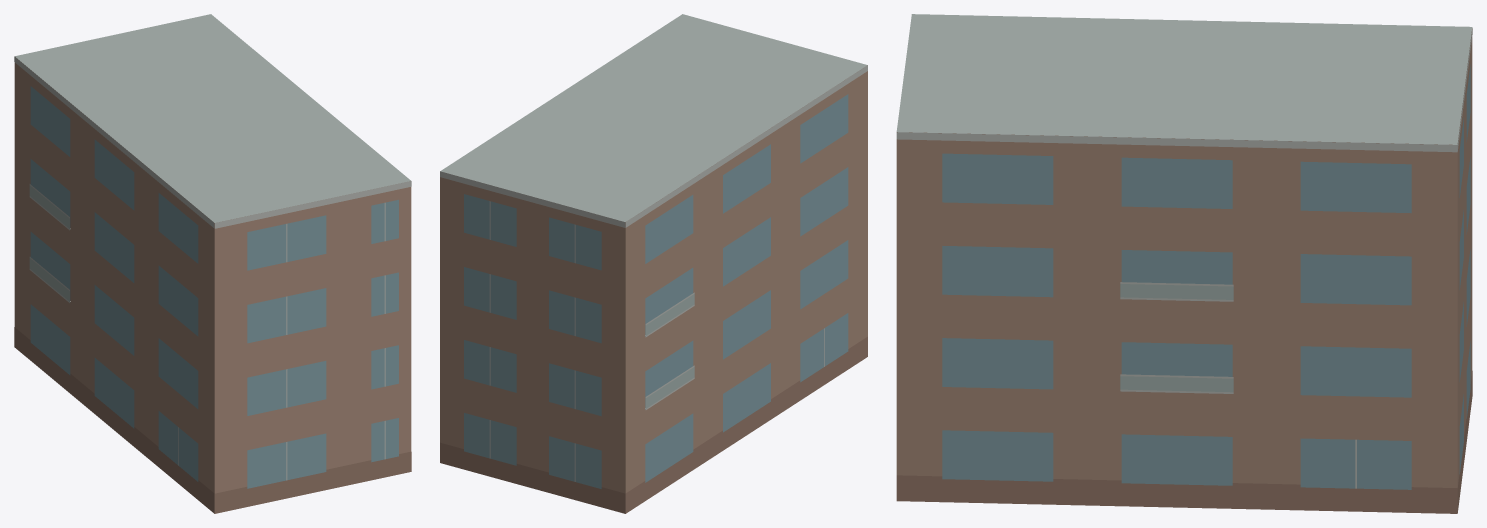
File: residential-8c2ec1bb-0569-4ec5-b182-488a868c5a9f.glb
3 renders of one model, left to right at view 1: azimuth 30°, elevation 25°; view 2: azimuth 150°, elevation 25°; view 3: azimuth 270°, elevation 25°, orthographic. The views are drawn at different scales.
Visible parts, largest first — view 1: residential-8c2ec1bb-0569-4ec5-b182-488a868c5a9f.tmp; view 2: residential-8c2ec1bb-0569-4ec5-b182-488a868c5a9f.tmp; view 3: residential-8c2ec1bb-0569-4ec5-b182-488a868c5a9f.tmp.
Part boxes in pixels (x1,y1,x2,y2): residential-8c2ec1bb-0569-4ec5-b182-488a868c5a9f.tmp: [14, 14, 411, 513]; residential-8c2ec1bb-0569-4ec5-b182-488a868c5a9f.tmp: [440, 14, 867, 513]; residential-8c2ec1bb-0569-4ec5-b182-488a868c5a9f.tmp: [896, 14, 1472, 513].
Bounding box in the file's own units: 9.29 × 12.2 × 17.27.
